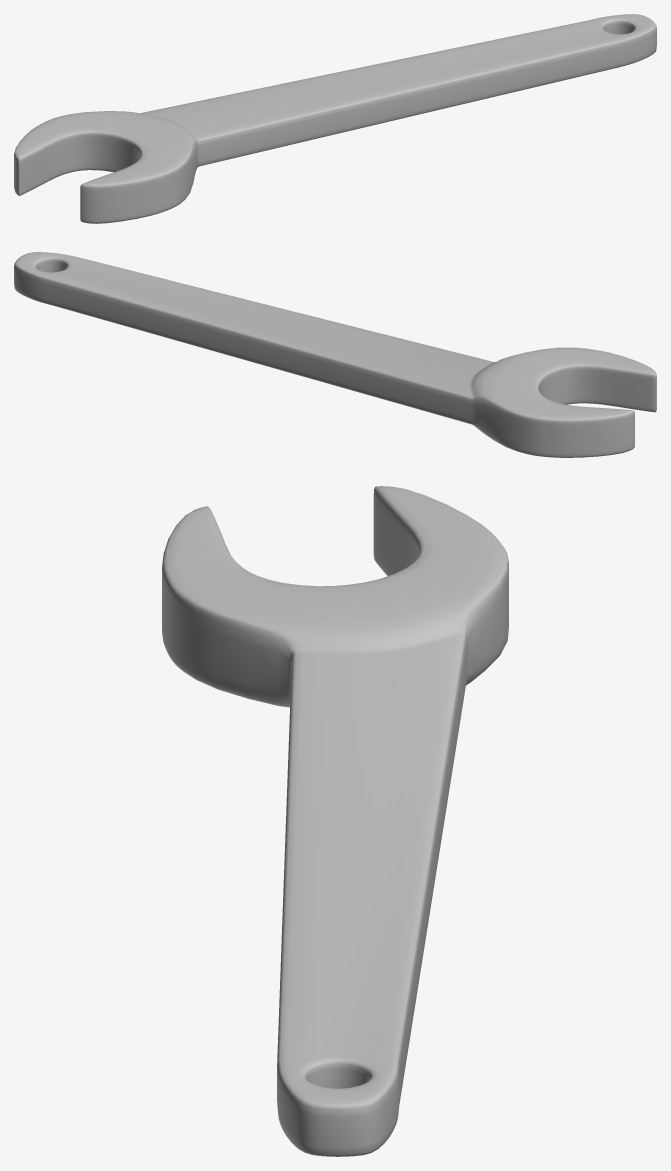
Rendered from Wrench.glb.
3 renders of one model, top to bottom at view 1: azimuth 30°, elevation 25°; view 2: azimuth 150°, elevation 25°; view 3: azimuth 270°, elevation 25°, orthographic. The views are drawn at different scales.
Visible parts, largest first — view 1: OpenEndedWrench; view 2: OpenEndedWrench; view 3: OpenEndedWrench.
Part boxes in pixels (left/top/right/bottom): OpenEndedWrench: left=14, top=14, right=656, bottom=223; OpenEndedWrench: left=14, top=252, right=656, bottom=457; OpenEndedWrench: left=162, top=486, right=508, bottom=1156.
Bounding box in the file's own units: 4.88 × 0.296 × 1.17.
Materials: 1 (1 with a texture image).
